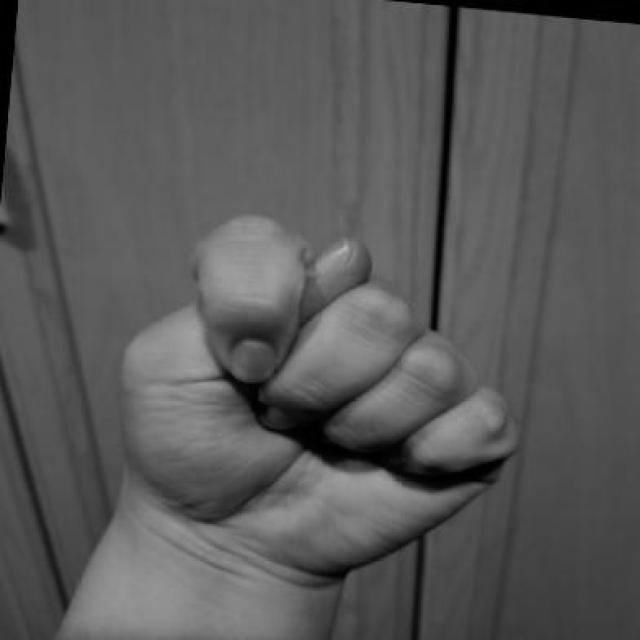T: (88, 196, 552, 606)
